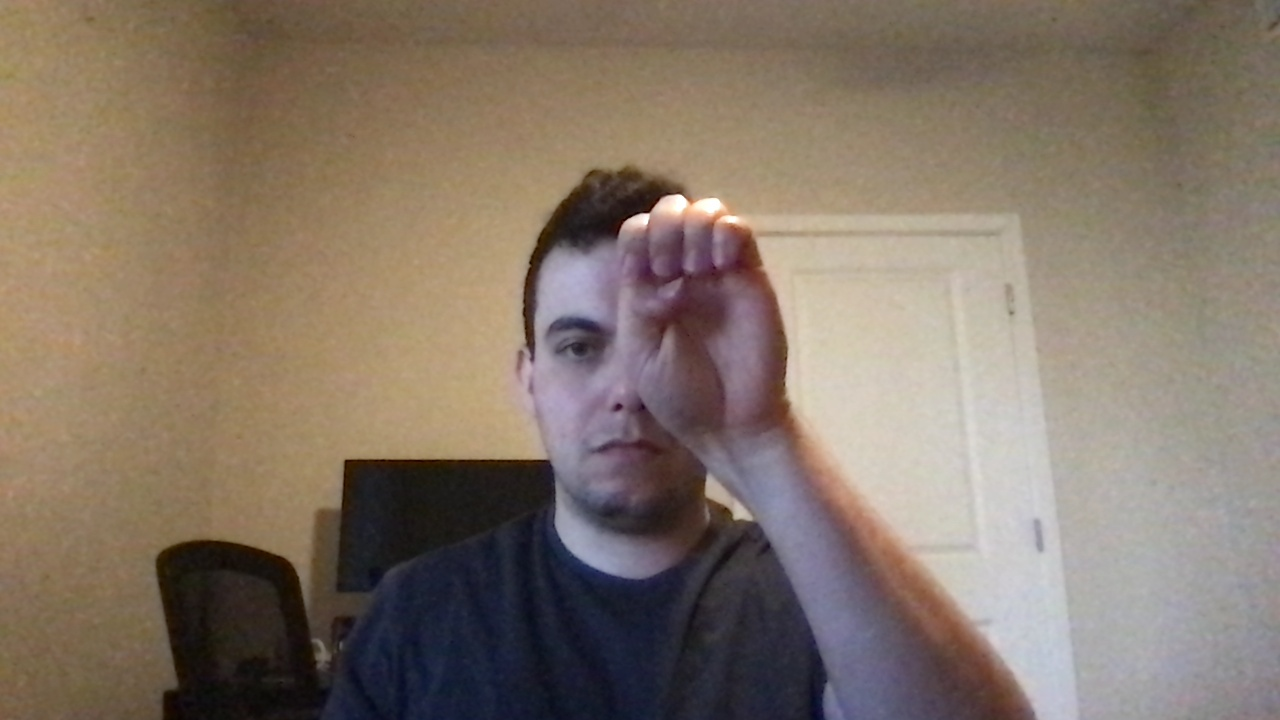e: (597, 183, 817, 462)
